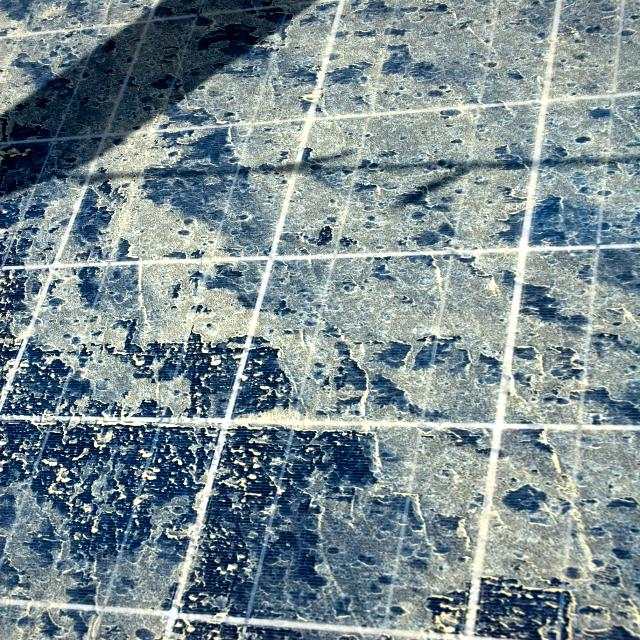dust: (200, 424, 423, 606), (0, 413, 166, 640), (467, 433, 617, 638), (269, 263, 479, 398), (30, 272, 241, 404), (327, 118, 521, 246), (117, 127, 280, 256), (337, 5, 560, 98), (120, 5, 304, 108), (514, 247, 626, 414), (0, 51, 87, 240), (556, 96, 640, 242), (579, 0, 640, 87)
